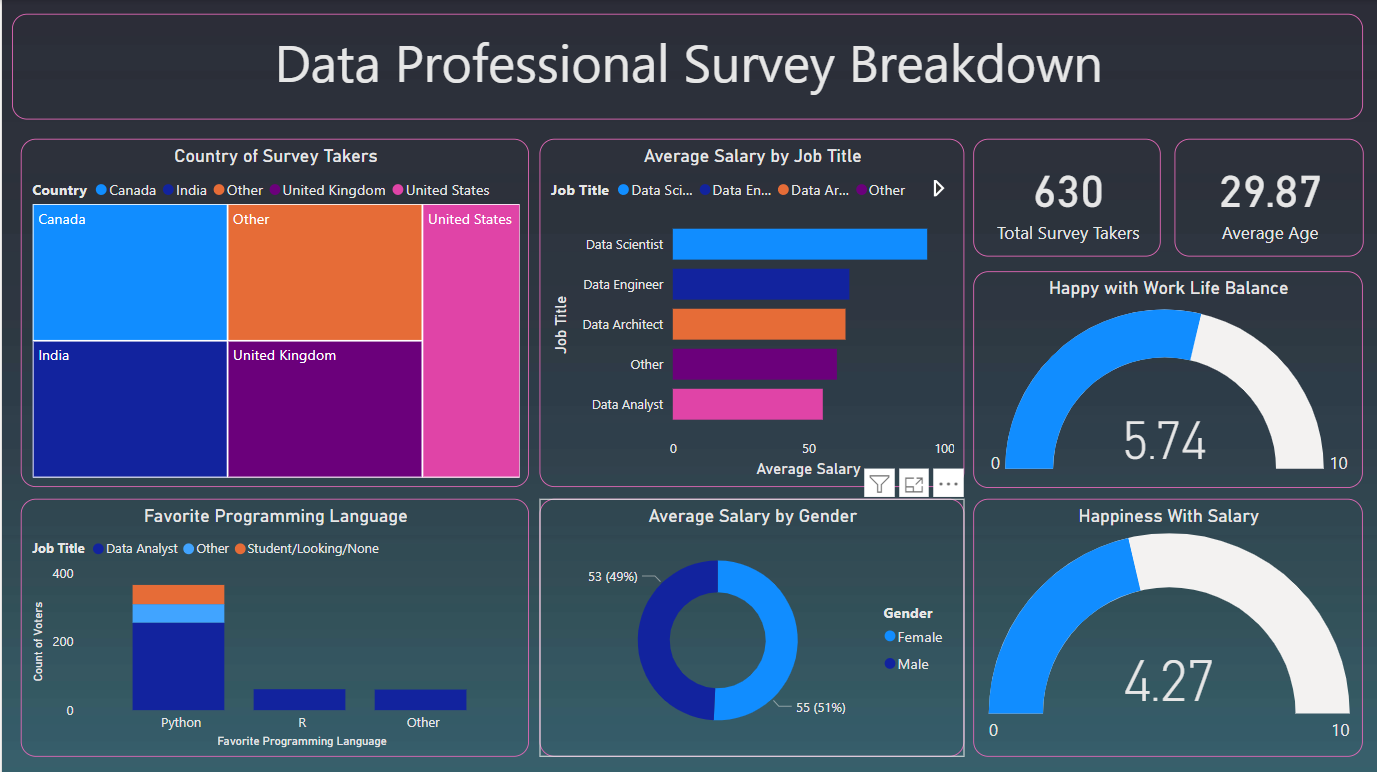

Layout of this report page (visuals, bound fields, positions):
{"tool":"powerbi","page":{"name":"Page 1","canvas":[1280,720],"ordinal":0},"visuals":[{"type":"textbox","box":[8.9,13.4,1256.8,98.1],"z":0},{"type":"card","fields":{"Values":["Count(Data Professional Survey.Unique ID)"]},"box":[903.7,129.3,174.4,109.8],"z":1},{"type":"card","fields":{"Values":["Avg(Data Professional Survey.Q10 - Current Age)"]},"box":[1090.2,129.3,175.6,109.8],"z":2},{"type":"barChart","title":"Average Salary by Job Title","fields":{"Category":["Data Professional Survey.Q1 - Which Title Best Fits your Current Role?.1"],"Y":["Avg(Data Professional Survey.Average Salary)"],"Series":["Data Professional Survey.Q1 - Which Title Best Fits your Current Role?.1"]},"box":[500,129.3,395.1,324.4],"z":3},{"type":"columnChart","title":"Favorite Programming Language","fields":{"Category":["Data Professional Survey.Q5 - Favorite Programming Language.1"],"Y":["CountNonNull(Data Professional Survey.Unique ID)"],"Series":["Data Professional Survey.Q1 - Which Title Best Fits your Current Role?.1"]},"box":[17.1,463.4,473.2,240.2],"z":4},{"type":"treemap","title":"Country of Survey Takers","fields":{"Group":["Data Professional Survey.Q11 - Which Country do you live in?.1"],"Values":["Count(Data Professional Survey.Q11 - Which Country do you live in?.1)"]},"box":[17.1,129.3,473.2,324.4],"z":5},{"type":"gauge","title":"Happy with Work Life Balance","fields":{"Y":["Avg(Data Professional Survey.Q6 - How Happy are you in your Current Position with the following? (Work/Life Balance))"],"MinValue":["Min(Data Professional Survey.Q6 - How Happy are you in your Current Position with the following? (Work/Life Balance))"],"MaxValue":["Max(Data Professional Survey.Q6 - How Happy are you in your Current Position with the following? (Work/Life Balance))1"]},"box":[903.7,252.4,362.2,201.2],"z":6},{"type":"gauge","title":"Happiness With Salary","fields":{"Y":["Avg(Data Professional Survey.Q6 - How Happy are you in your Current Position with the following? (Salary))"],"MinValue":["Min(Data Professional Survey.Q6 - How Happy are you in your Current Position with the following? (Salary))"],"MaxValue":["Max(Data Professional Survey.Q6 - How Happy are you in your Current Position with the following? (Salary))"]},"box":[903.7,463.4,362.2,240.2],"z":7},{"type":"donutChart","title":"Average Salary by Gender","fields":{"Category":["Data Professional Survey.Q9 - Male/Female?"],"Y":["Avg(Data Professional Survey.Average Salary)"]},"box":[500,463.4,395.1,240.2],"z":8}]}

Visuals, with their boxes in screenshot pixels (x1, y1, x2, y2), scaled from the page's 1280x720 canvas onto the 1377x772 screenshot:
textbox: (left=10, top=14, right=1362, bottom=120)
card - Count(Data Professional Survey.Unique ID): (left=972, top=139, right=1160, bottom=256)
card - Avg(Data Professional Survey.Q10 - Current Age): (left=1173, top=139, right=1362, bottom=256)
"Average Salary by Job Title" barChart: (left=538, top=139, right=963, bottom=486)
"Favorite Programming Language" columnChart: (left=18, top=497, right=527, bottom=754)
"Country of Survey Takers" treemap: (left=18, top=139, right=527, bottom=486)
"Happy with Work Life Balance" gauge: (left=972, top=271, right=1362, bottom=486)
"Happiness With Salary" gauge: (left=972, top=497, right=1362, bottom=754)
"Average Salary by Gender" donutChart: (left=538, top=497, right=963, bottom=754)
